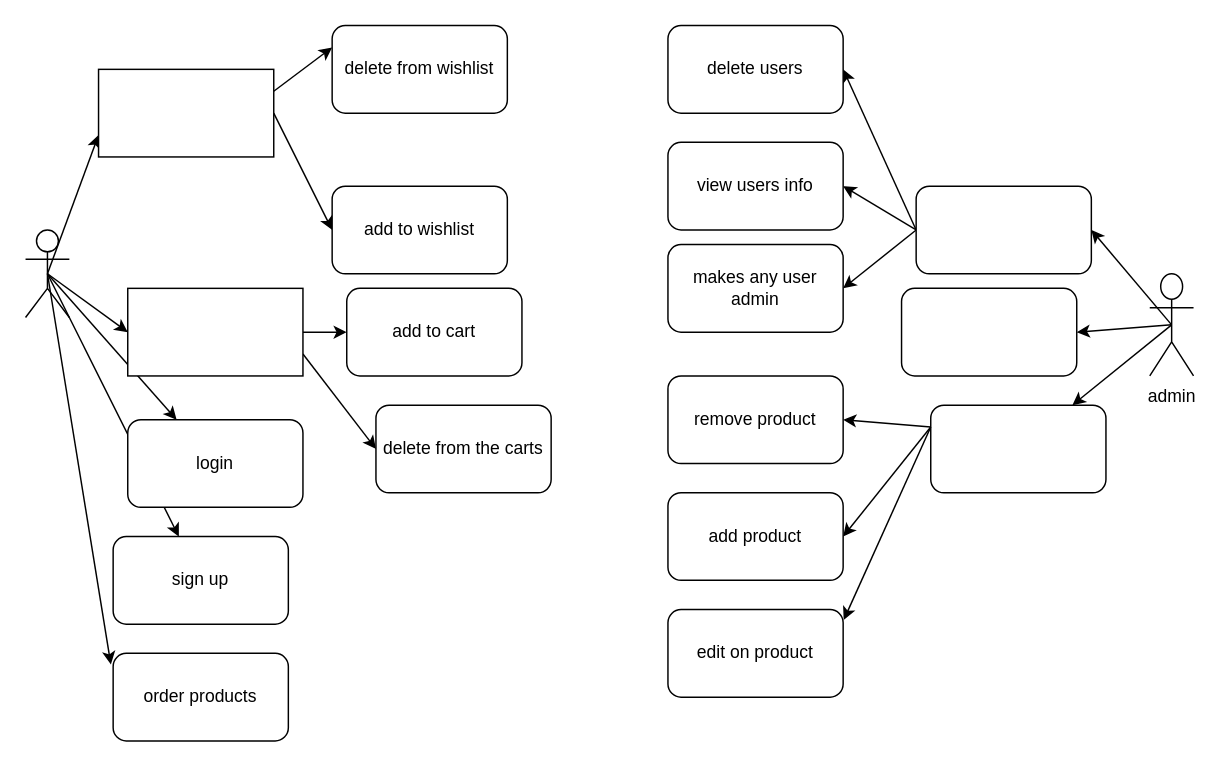
Some shapes in this 1221 by 767 pixel diagram are drawn without their labels. Each missing label, with the box of its shape:
Cart: (126, 287, 303, 376)
products: (929, 404, 1106, 493)
user: (24, 228, 69, 318)
users: (915, 185, 1091, 274)
view orders: (900, 287, 1077, 376)
wishlist: (97, 68, 274, 157)
